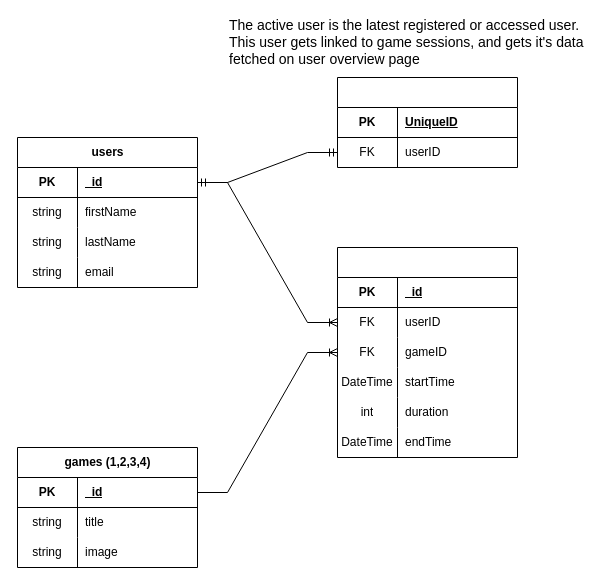
This 615x585 diagram has some shape labels left out. The shapes that lost their labels are listed below. From the top down, each one's box as (x1, y1, x2, y2) in pixels, then its label:
(336, 76, 518, 168): Active User
(336, 246, 518, 458): session
